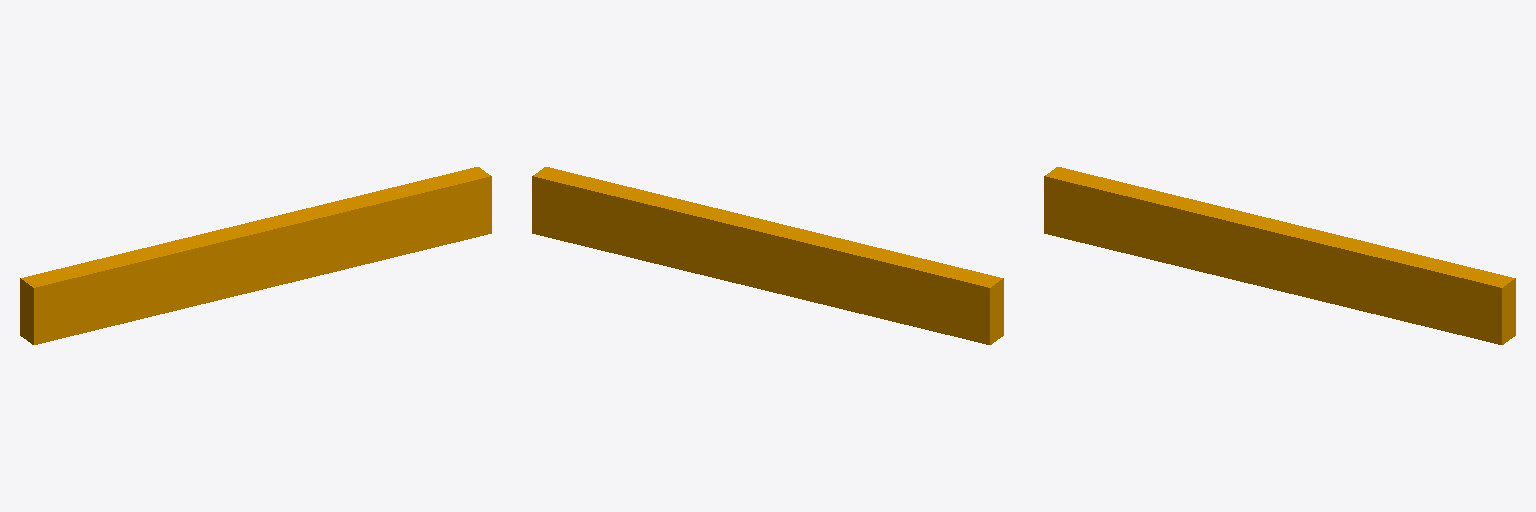
URDF robot description (left_support):
<?xml version="1.0" encoding="utf-8"?>

<robot name="left_support">
    <link name="support">
        <inertial>
            <mass value="2"/>
            <inertia
                    ixx="0.013"
                    ixy="0"
                    ixz="0"
                    iyy="0.013"
                    iyz="0"
                    izz="0.013"/>
        </inertial>
        <collision name="point_1">
            <origin rpy="0 0 0" xyz="-0.08 0.0 0.024"/>
            <geometry>
              <sphere radius="0.001"/>
            </geometry>
        </collision>
        <collision name="point_2">
            <origin rpy="0 0 0" xyz="0.08 0.0 0.024"/>
            <geometry>
              <sphere radius="0.001"/>
            </geometry>
        </collision>
        <visual>
            <origin rpy="0 0 0" xyz="0 0 0.0"/>
            <geometry>
                <box size="0.4 0.02 0.048"/>
            </geometry>
        </visual>
    </link>
</robot>

--- Facts derived from the render (not from the file) ---
3 views of the same robot in one strip: view 1: azimuth 30°, elevation 25°; view 2: azimuth 150°, elevation 25°; view 3: azimuth 330°, elevation 25° (orthographic).
Model left_support with 1 links and 0 joints (none), rooted at support, posed every joint at zero.
Links seen in each view (by area): view 1: support; view 2: support; view 3: support.
Link boxes in pixels (x1,y1,x2,y2): support: [20, 167, 491, 344]; support: [532, 167, 1003, 344]; support: [1044, 167, 1515, 344].
Bounding box of the posed robot: 0.4 × 0.02 × 0.048 m (x, y, z).
Geometry: primitives only (box / cylinder / sphere), no mesh files.